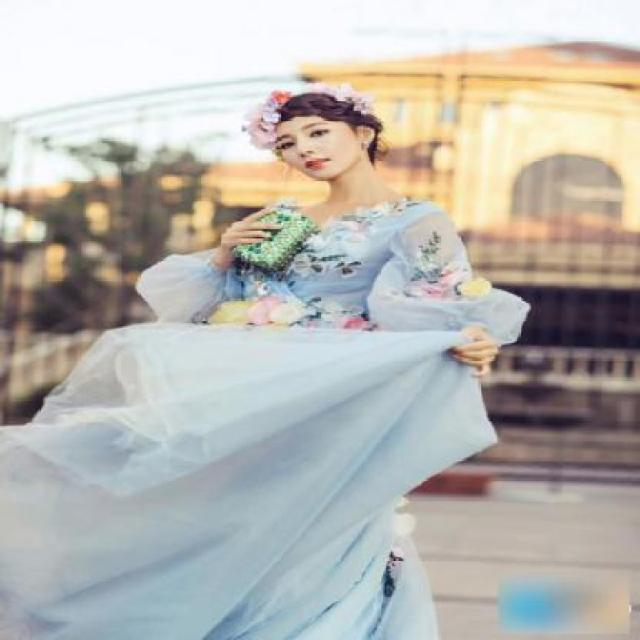Person: (127, 70, 510, 639)
